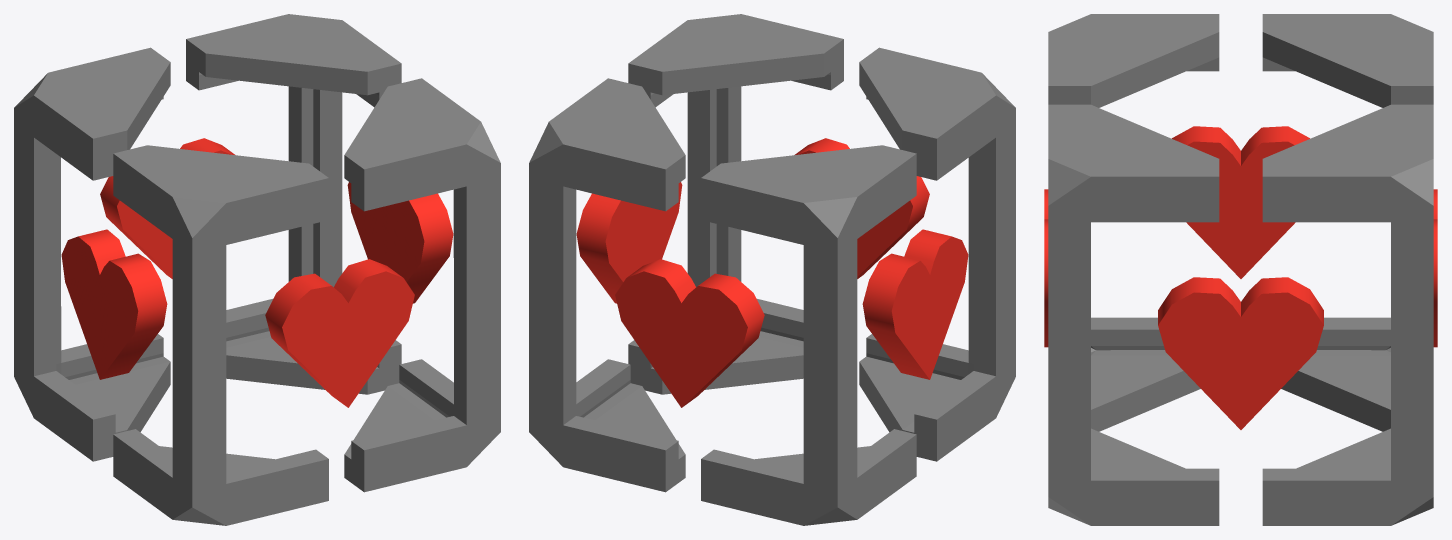
Rendered from PickupHeart.glb.
The picture shows the model from 3 angles, left to right: view 1: azimuth 30°, elevation 25°; view 2: azimuth 150°, elevation 25°; view 3: azimuth 270°, elevation 25°; orthographic projection. The views are drawn at different scales.
Visible parts, largest first — view 1: Pickup_Heart; view 2: Pickup_Heart; view 3: Pickup_Heart.
Boxes of the visible parts, x1,y1,x2,y2 form: Pickup_Heart: (14,14,500,525); Pickup_Heart: (529,14,1015,525); Pickup_Heart: (1044,14,1437,525).
Bounding box in the file's own units: 0.2464 × 0.2413 × 0.2464.
